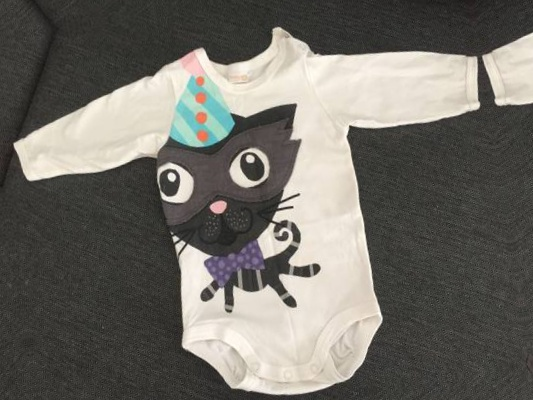Body: (1, 11, 522, 400), (481, 0, 533, 352), (64, 376, 533, 400), (0, 95, 28, 400)
